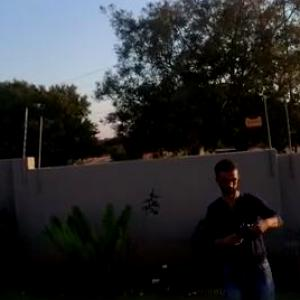follow: (202, 152, 286, 299)
